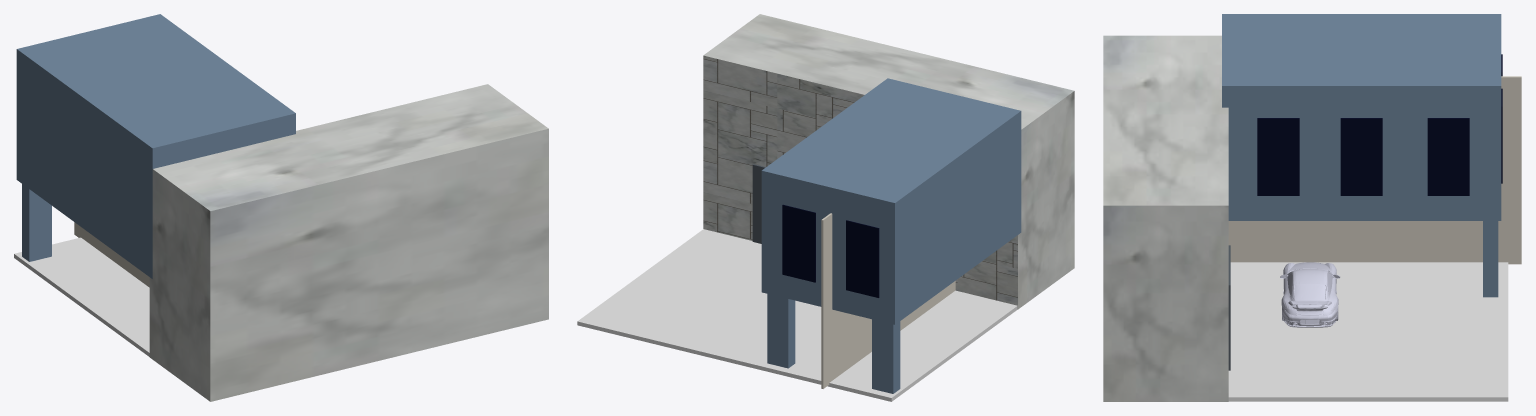
The picture shows the model from 3 angles, left to right: view 1: azimuth 30°, elevation 25°; view 2: azimuth 150°, elevation 25°; view 3: azimuth 270°, elevation 25°; orthographic projection. The views are drawn at different scales.
Visible parts, largest first — view 1: Cube.001, Cube.002, Cube, Cube.010, Cube.008; view 2: Cube.002, Cube.001, Cube, Cube.008, Cube.006, Cube.007, Cube.010, Cube.009, Plane; view 3: Cube.002, Cube.001, Cube, Cube.008, Porsche_911_GT2, Cube.003, Cube.004, Cube.005, Cube.009, Plane.
Part boxes in pixels (box(x1,y1,x2,y2)): Cube.001: box(149, 84, 548, 401); Cube.002: box(16, 14, 295, 278); Cube: box(14, 237, 149, 356); Cube.010: box(22, 184, 51, 261); Cube.008: box(74, 222, 149, 287); Cube.002: box(761, 78, 1021, 324); Cube.001: box(703, 14, 1074, 309); Cube: box(577, 229, 1017, 401); Cube.008: box(821, 213, 955, 388); Cube.006: box(782, 204, 815, 282); Cube.007: box(846, 220, 879, 297); Cube.010: box(872, 319, 900, 393); Cube.009: box(767, 294, 795, 368); Plane: box(752, 164, 765, 243); Cube.002: box(1222, 14, 1501, 220); Cube.001: box(1103, 35, 1228, 401); Cube: box(1228, 262, 1508, 401); Cube.008: box(1228, 76, 1521, 264); Porsche_911_GT2: box(1280, 262, 1340, 327); Cube.003: box(1257, 118, 1299, 195); Cube.004: box(1340, 118, 1382, 195); Cube.005: box(1427, 118, 1469, 195); Cube.009: box(1483, 221, 1498, 297); Plane: box(1228, 245, 1230, 370).
Size of the model in its own units: 8.55 by 5.58 by 8.88.
Materials: 6 (1 with a texture image).
